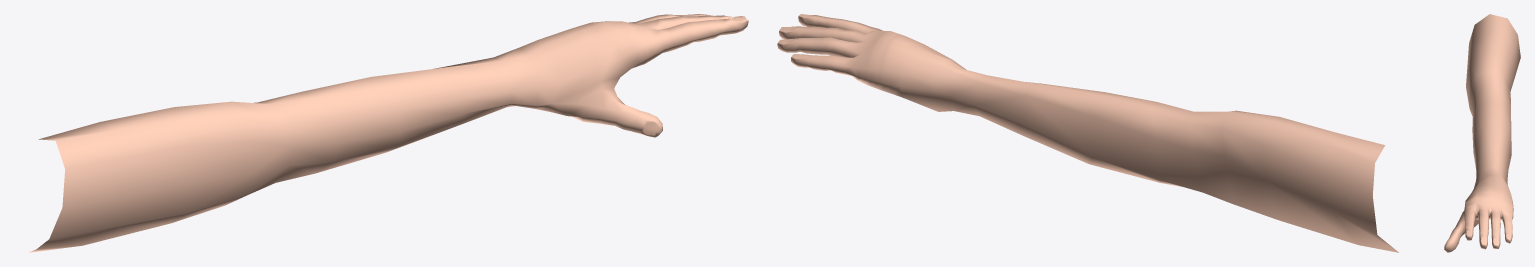
The model's file is hands.glb.
3 renders of one model, left to right at view 1: azimuth 30°, elevation 25°; view 2: azimuth 150°, elevation 25°; view 3: azimuth 270°, elevation 25°, orthographic. The views are drawn at different scales.
Parts seen in each view (by area): view 1: pasted__Arm pasted__Body_LowRes group; view 2: pasted__Arm pasted__Body_LowRes group; view 3: pasted__Arm pasted__Body_LowRes group.
Boxes of the visible parts, bbox=[...] form: pasted__Arm pasted__Body_LowRes group: bbox=[28, 14, 748, 252]; pasted__Arm pasted__Body_LowRes group: bbox=[777, 14, 1398, 252]; pasted__Arm pasted__Body_LowRes group: bbox=[1444, 14, 1520, 252].
Bounding box in the file's own units: 3.47 × 0.5246 × 0.5271.
